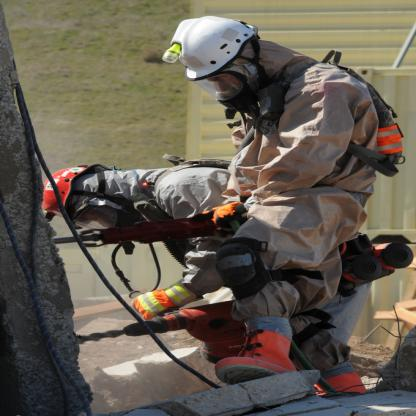Helmet: (174, 13, 267, 98), (34, 160, 96, 218)
